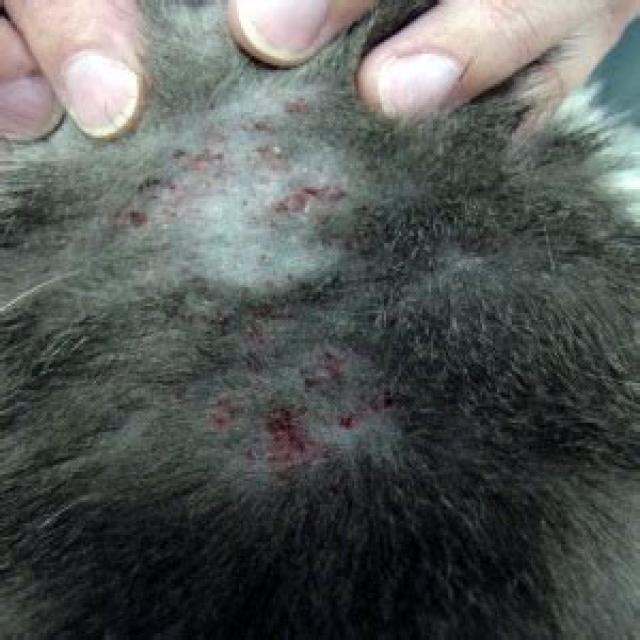di ung bo chet: (32, 145, 470, 574)
